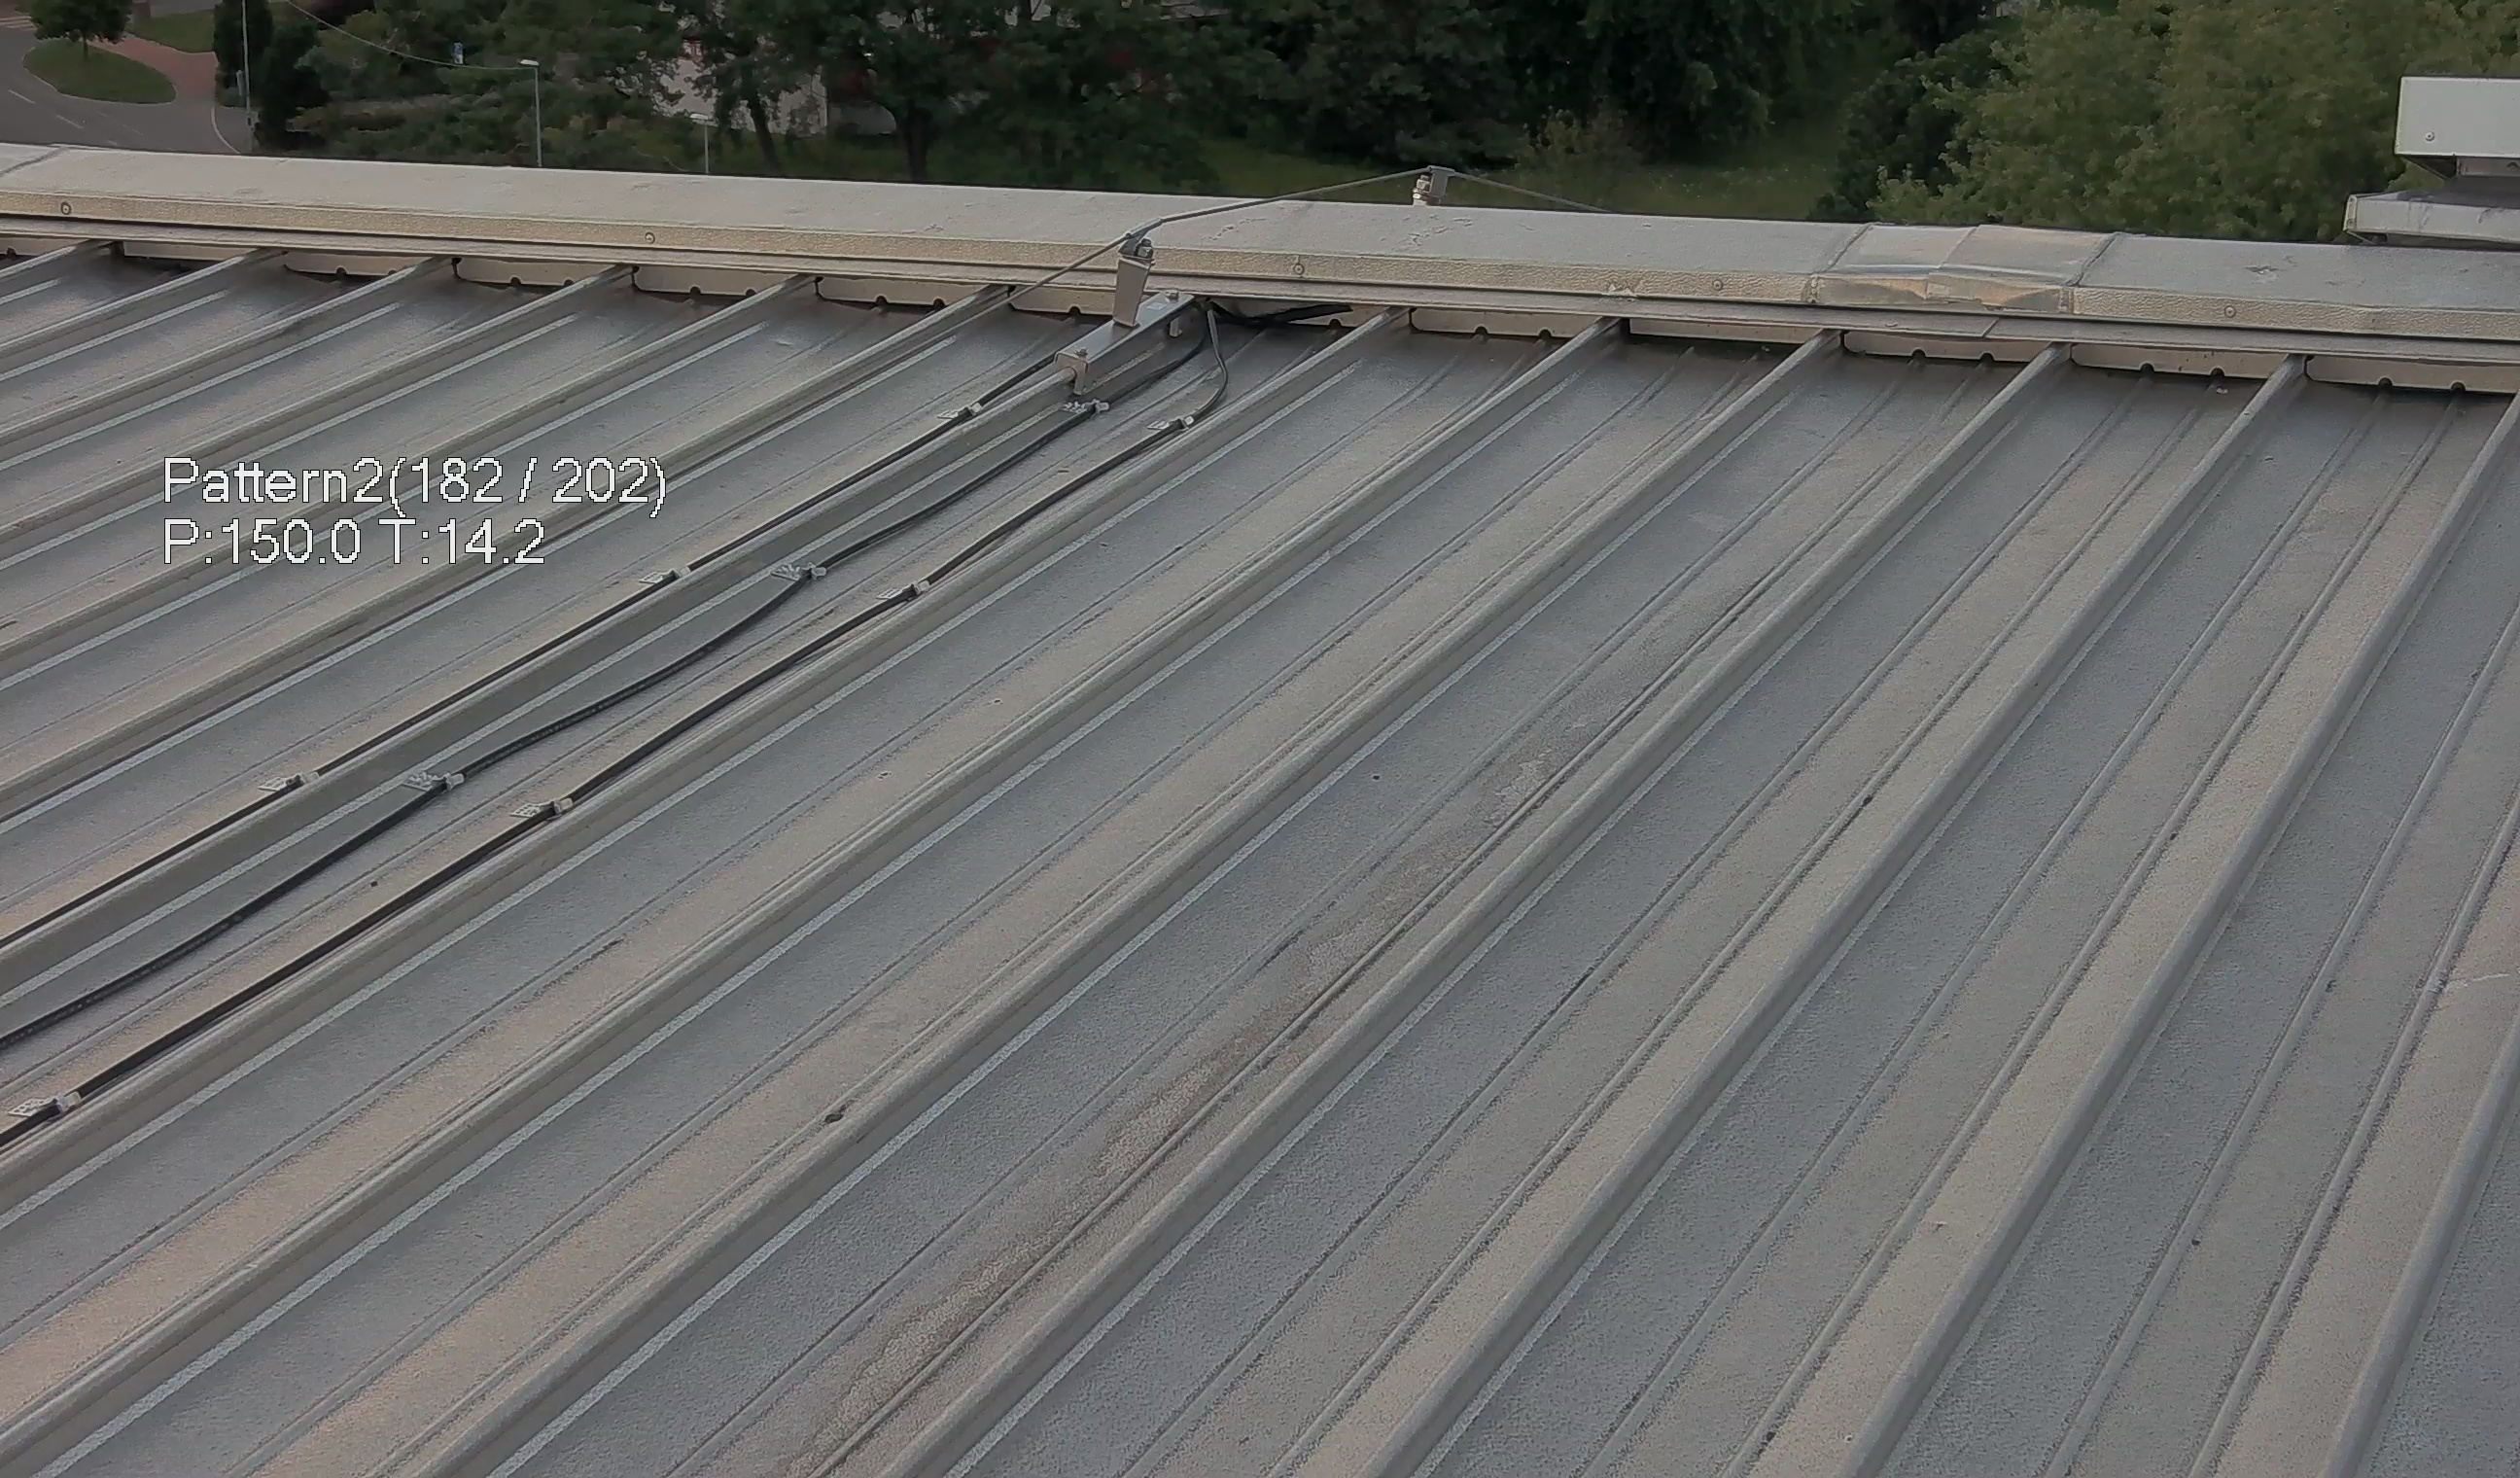Other: (1405, 158, 1453, 209)
